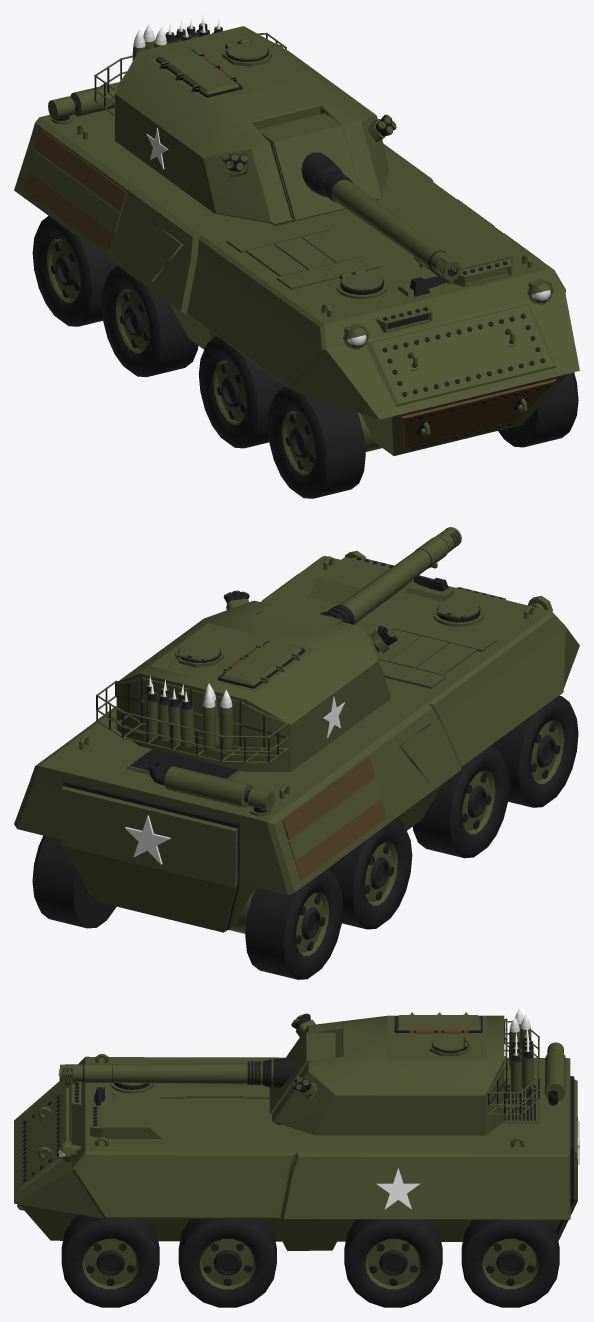
The model's file is TANK.FBX.
3 renders of one model, top to bottom at view 1: azimuth 30°, elevation 25°; view 2: azimuth 150°, elevation 25°; view 3: azimuth 270°, elevation 25°, orthographic. The views are drawn at different scales.
Parts seen in each view (by area): view 1: Hull, Turret, GunBarrel, TankWheel08, TankWheel05, TankWheel07, TankWheel06, TankWheel01; view 2: Hull, Turret, TankWheel06, TankWheel07, TankWheel08, TankWheel05, GunBarrel, TankWheel03; view 3: Hull, Turret, TankWheel01, TankWheel04, TankWheel03, TankWheel02, GunBarrel.
Part boxes in pixels (<box>): Hull: <box>14,82,579,455</box>; Turret: <box>94,14,396,226</box>; GunBarrel: <box>258,113,461,280</box>; TankWheel08: <box>267,386,365,498</box>; TankWheel05: <box>101,266,198,377</box>; TankWheel07: <box>198,336,286,448</box>; TankWheel06: <box>32,215,117,326</box>; TankWheel01: <box>498,372,578,447</box>; Hull: <box>14,551,579,933</box>; Turret: <box>96,590,397,771</box>; TankWheel06: <box>245,869,343,979</box>; TankWheel07: <box>412,746,509,858</box>; TankWheel08: <box>491,695,578,807</box>; TankWheel05: <box>327,818,412,929</box>; GunBarrel: <box>258,527,461,629</box>; TankWheel03: <box>32,835,116,928</box>; Hull: <box>14,1042,579,1250</box>; Turret: <box>272,1008,539,1135</box>; TankWheel01: <box>61,1214,159,1307</box>; TankWheel04: <box>178,1219,276,1307</box>; TankWheel03: <box>461,1219,559,1307</box>; TankWheel02: <box>344,1219,442,1307</box>; GunBarrel: <box>60,1032,335,1113</box>.
Bounding box in the file's own units: 101 × 92.38 × 206.
